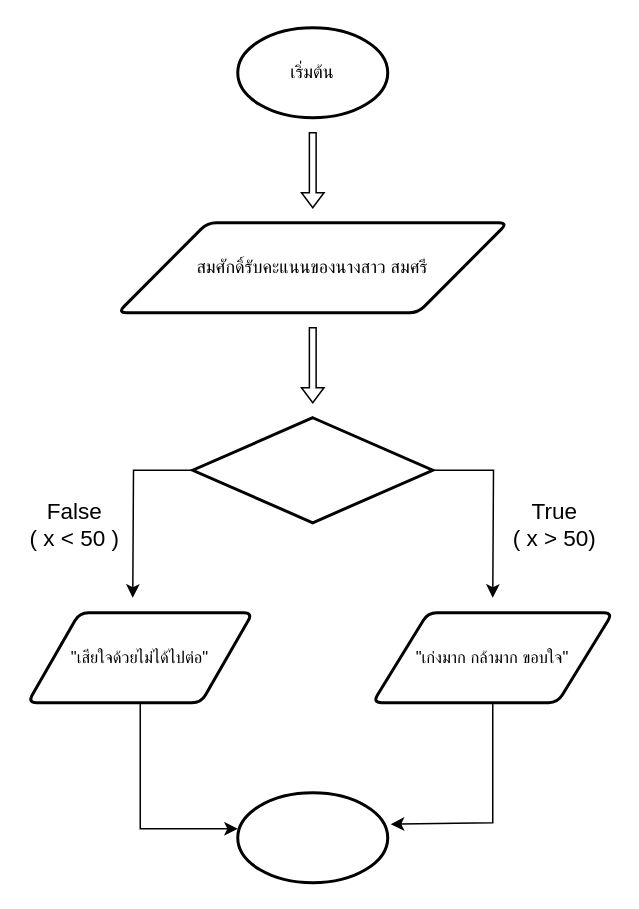
Image size: 639x909. Some labels were removed from this diagram. Here are the shapes that lost their labels. From the top down, the centre of each, then its label:
At [312,470]: "มากกว่าหรือน้อยกว่า 50".
At [312,837]: "สิ้นสุด".
